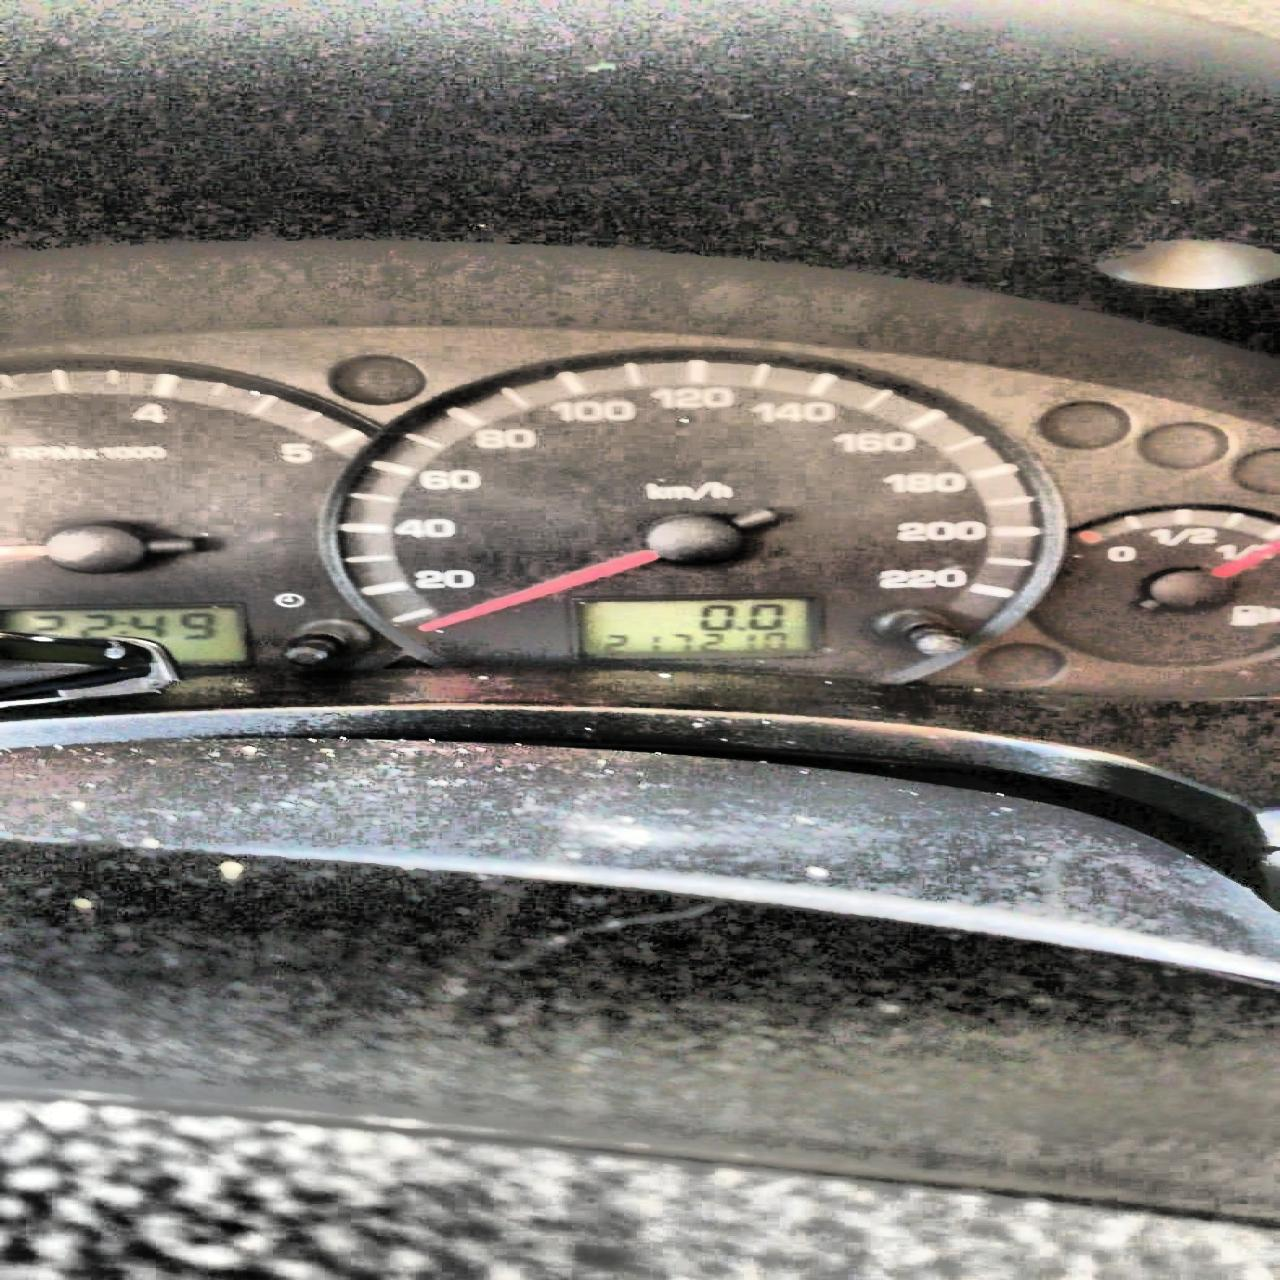-: (734, 625, 744, 631)
0: (699, 604, 734, 631), (748, 604, 782, 629), (762, 632, 784, 651)
1: (647, 633, 661, 653), (741, 632, 755, 649)
2: (602, 633, 627, 653), (699, 633, 723, 652)
7: (670, 632, 690, 651)
odometer: (565, 592, 826, 662)
